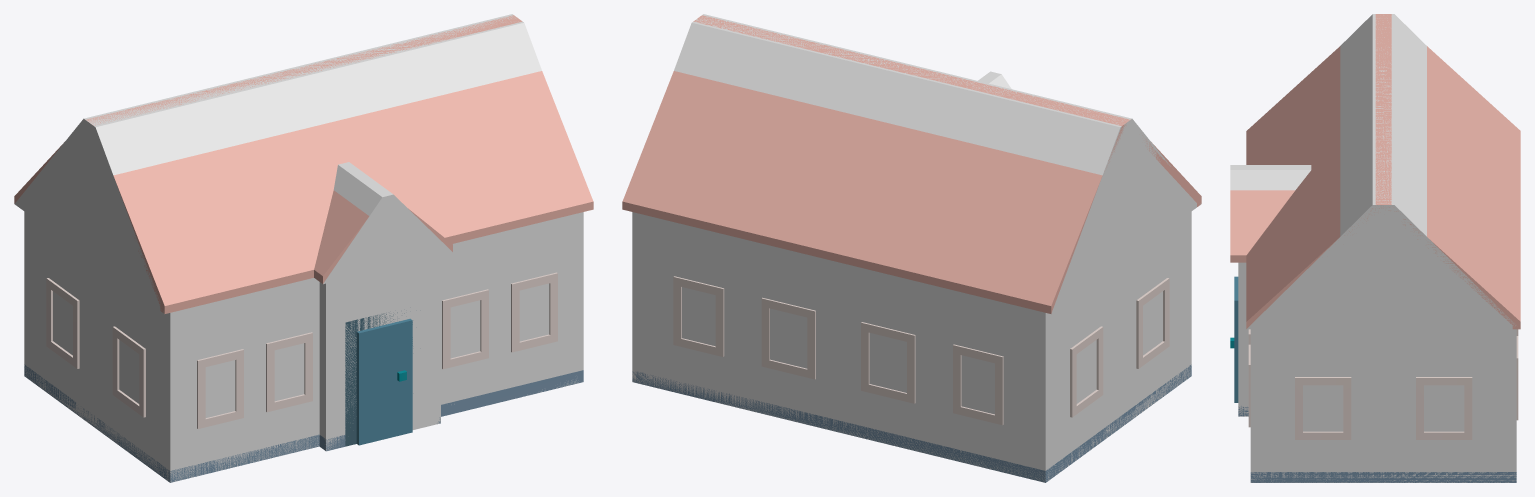
File: Home14_B1_1_01.FBX
The picture shows the model from 3 angles, left to right: view 1: azimuth 30°, elevation 25°; view 2: azimuth 150°, elevation 25°; view 3: azimuth 270°, elevation 25°; orthographic projection. The views are drawn at different scales.
Visible parts, largest first — view 1: Home14_B1_Damage_1_01, Home14_B1_Live_1_01; view 2: Home14_B1_Damage_1_01, Home14_B1_Live_1_01; view 3: Home14_B1_Damage_1_01, Home14_B1_Live_1_01.
Part boxes in pixels (box(x1,y1,x2,y2)): Home14_B1_Damage_1_01: box(14, 14, 583, 482); Home14_B1_Live_1_01: box(14, 15, 593, 482); Home14_B1_Damage_1_01: box(632, 14, 1201, 482); Home14_B1_Live_1_01: box(622, 15, 1201, 482); Home14_B1_Damage_1_01: box(1230, 14, 1516, 482); Home14_B1_Live_1_01: box(1230, 14, 1520, 482).
Size of the model in its own units: 8.53 by 5.87 by 5.49.
